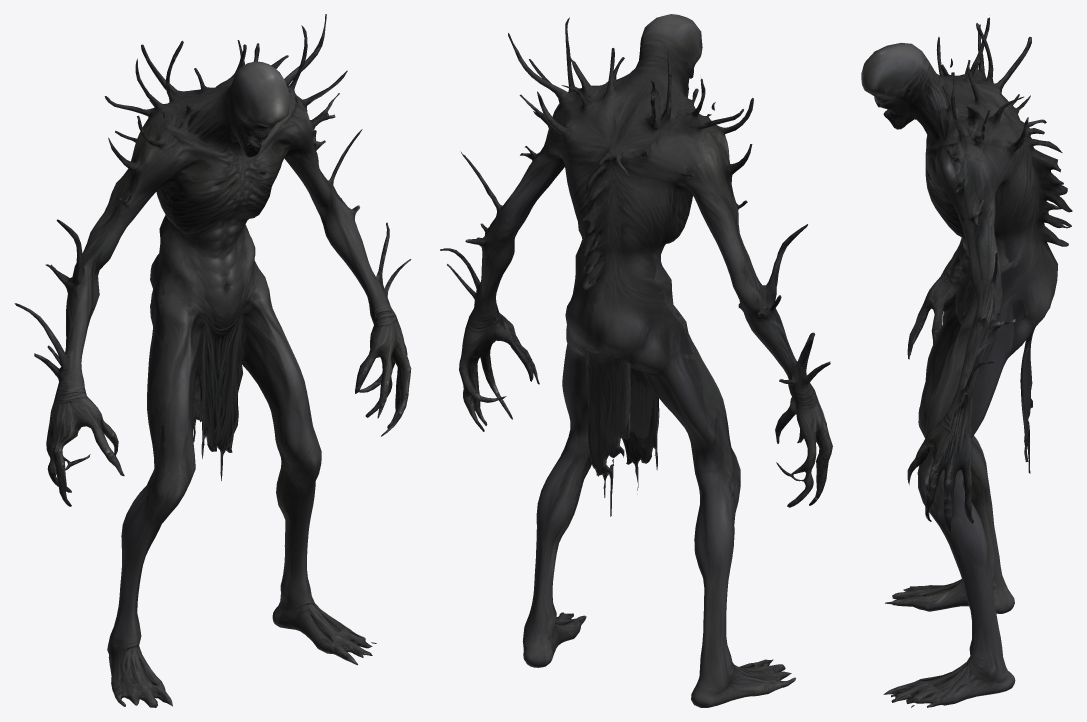
The model's file is Sombra Enemy.glb.
The picture shows the model from 3 angles, left to right: view 1: azimuth 30°, elevation 25°; view 2: azimuth 150°, elevation 25°; view 3: azimuth 270°, elevation 25°; orthographic projection. The views are drawn at different scales.
Size of the model in its own units: 1.24 by 1.97 by 0.6147.
Materials: 1 (1 with a texture image).
